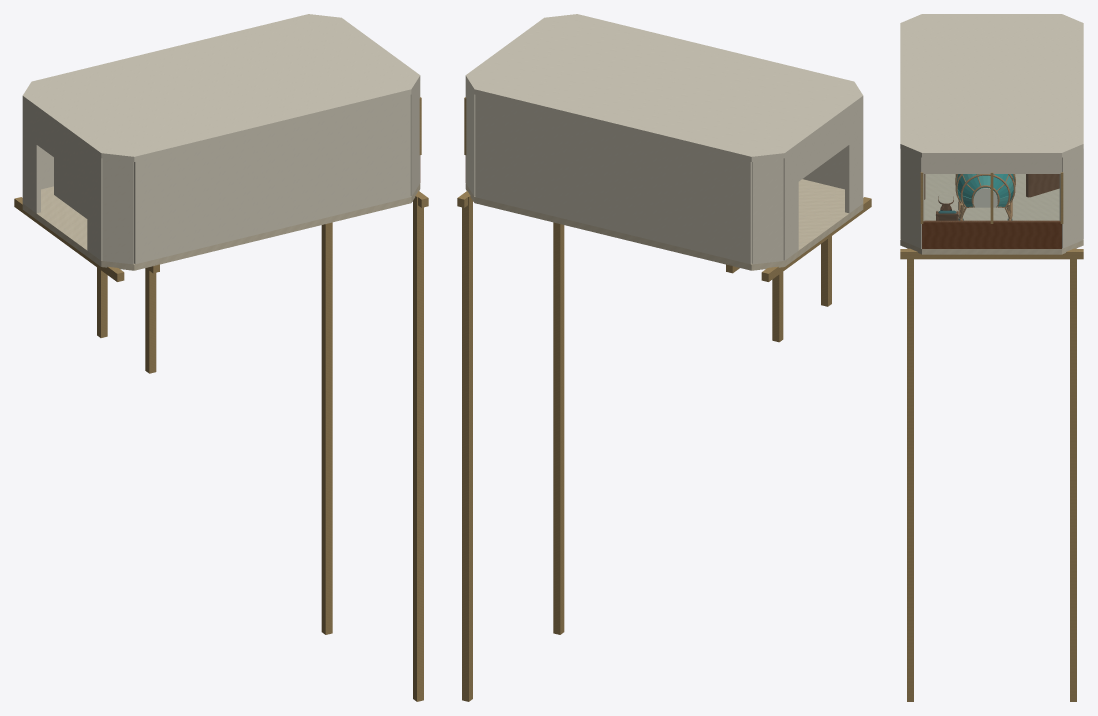
Rendered from D04_STARBOARD_FORWARD_HOME_931_r001.glb.
3 renders of one model, left to right at view 1: azimuth 30°, elevation 25°; view 2: azimuth 150°, elevation 25°; view 3: azimuth 270°, elevation 25°, orthographic. The views are drawn at different scales.
Visible parts, largest first — view 1: D04SH931_Roof, D04SH931_Shell_3, D04SH931_Pier_2, D04SH931_Pier_1, D04SH931_Floor, D04SH931_Shell_4, D04SH931_EntryWall_0, D04SH931_EntryHeader, D04SH931_EntryWall_1, D04SH931_BathDogleg, D04SH931_Pier_4, D04SH931_Shell_2 (+2 smaller); view 2: D04SH931_Roof, D04SH931_Shell_7, D04SH931_Pier_1, D04SH931_Floor, D04SH931_Pier_2, D04SH931_Shell_6, D04SH931_EntryWall_1, D04SH931_EntryHeader, D04SH931_EntryWall_0, D04SH931_Shell_0, D04SH931_Shell_3, D04SH931_Pier_3 (+2 smaller); view 3: D04SH931_Roof, D04SH931_GardenGlass, D04SH931_Floor, D04SH931_GardenDado, D04SH931_Pier_1, D04SH931_Pier_2, D04SH931_GardenHead, D04SH931_Shell_0, D04SH931_Shell_2, D04SH931_Long_-58.650000000000006, D04SH931_QuietWing, D04SH931_ReservedCocoon__Rear ivory acoustic diffuser.
Boxes of the visible parts, <box> form: D04SH931_Roof: <box>22,14,420,161</box>; D04SH931_Shell_3: <box>134,94,410,264</box>; D04SH931_Pier_2: <box>413,193,423,701</box>; D04SH931_Pier_1: <box>321,222,332,634</box>; D04SH931_Floor: <box>22,183,420,270</box>; D04SH931_Shell_4: <box>102,158,133,264</box>; D04SH931_EntryWall_0: <box>22,101,40,213</box>; D04SH931_EntryHeader: <box>36,111,87,181</box>; D04SH931_EntryWall_1: <box>87,148,102,260</box>; D04SH931_BathDogleg: <box>54,157,87,218</box>; D04SH931_Pier_4: <box>145,268,156,373</box>; D04SH931_Shell_2: <box>410,81,419,196</box>; D04SH931_Roof: <box>465,14,863,161</box>; D04SH931_Shell_7: <box>475,94,751,264</box>; D04SH931_Pier_1: <box>462,193,472,701</box>; D04SH931_Floor: <box>465,179,863,270</box>; D04SH931_Pier_2: <box>553,222,564,634</box>; D04SH931_Shell_6: <box>752,158,783,264</box>; D04SH931_EntryWall_1: <box>845,101,863,213</box>; D04SH931_EntryHeader: <box>798,111,849,181</box>; D04SH931_EntryWall_0: <box>783,148,798,260</box>; D04SH931_Shell_0: <box>466,81,475,196</box>; D04SH931_Shell_3: <box>803,148,844,189</box>; D04SH931_Pier_3: <box>772,272,783,342</box>; D04SH931_Roof: <box>900,14,1083,157</box>; D04SH931_GardenGlass: <box>924,174,1059,221</box>; D04SH931_Floor: <box>900,174,1083,254</box>; D04SH931_GardenDado: <box>922,220,1061,248</box>; D04SH931_Pier_1: <box>1070,248,1076,701</box>; D04SH931_Pier_2: <box>907,248,913,701</box>; D04SH931_GardenHead: <box>922,157,1061,173</box>; D04SH931_Shell_0: <box>1059,149,1082,248</box>; D04SH931_Shell_2: <box>901,149,924,248</box>; D04SH931_Long_-58.650000000000006: <box>900,249,1083,259</box>; D04SH931_QuietWing: <box>1026,174,1059,197</box>; D04SH931_ReservedCocoon__Rear ivory acoustic diffuser: <box>973,188,997,207</box>.
Bounding box in the file's own units: 12.92 × 23.86 × 7.2.
Materials: 36 (21 with a texture image).
